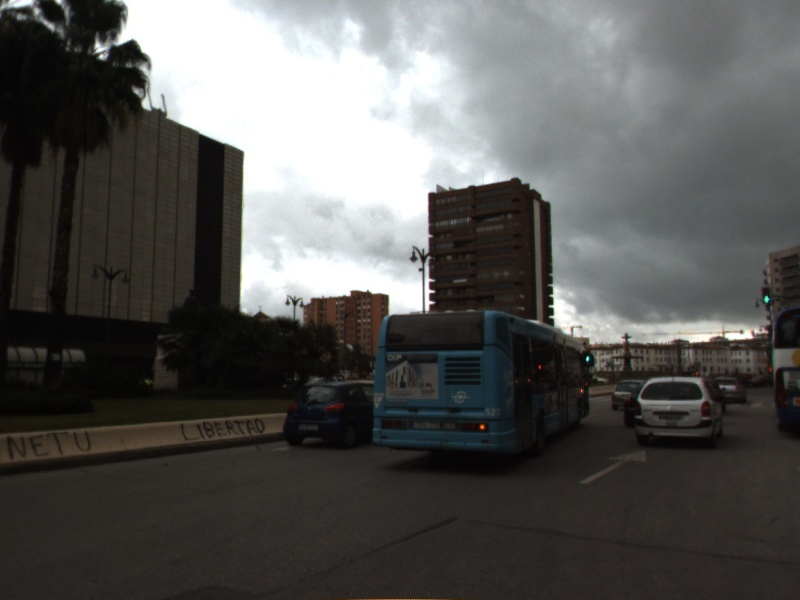STRAIGHT: (576, 447, 648, 486)
